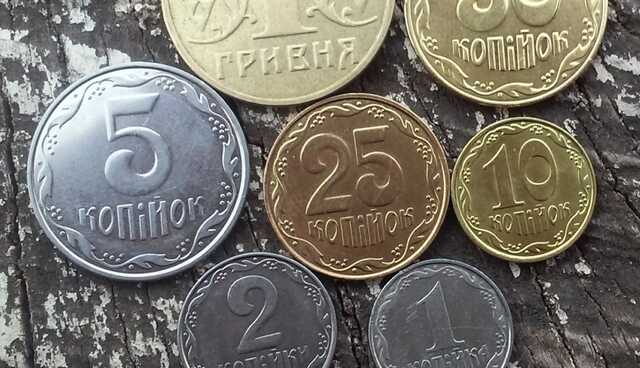coin_5: (178, 250, 335, 366)
